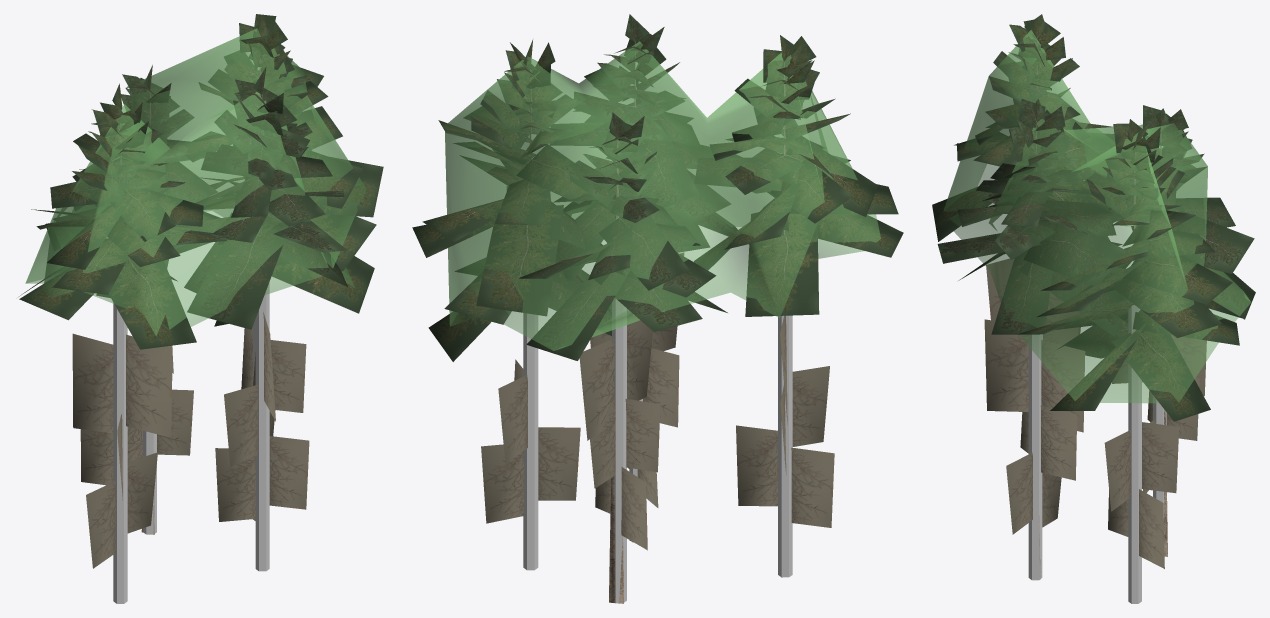
The model's file is tree_douglasfir_group_low.dae.
3 views of the same model, side by side, from view 1: azimuth 30°, elevation 25°; view 2: azimuth 150°, elevation 25°; view 3: azimuth 270°, elevation 25° (orthographic). The views are drawn at different scales.
Parts seen in each view (by area): view 1: tree_douglasfir_forest_group_low_a1500, Colmesh_low_group-1; view 2: tree_douglasfir_forest_group_low_a1500, Colmesh_low_group-1; view 3: tree_douglasfir_forest_group_low_a1500, Colmesh_low_group-1.
Boxes of the visible parts, bbox=[...] form: tree_douglasfir_forest_group_low_a1500: bbox=[19, 14, 383, 568]; Colmesh_low_group-1: bbox=[25, 28, 366, 603]; tree_douglasfir_forest_group_low_a1500: bbox=[412, 14, 903, 603]; Colmesh_low_group-1: bbox=[445, 41, 880, 603]; tree_douglasfir_forest_group_low_a1500: bbox=[932, 14, 1255, 579]; Colmesh_low_group-1: bbox=[943, 30, 1250, 603].
Size of the model in its own units: 17.73 by 13.3 by 22.6.
